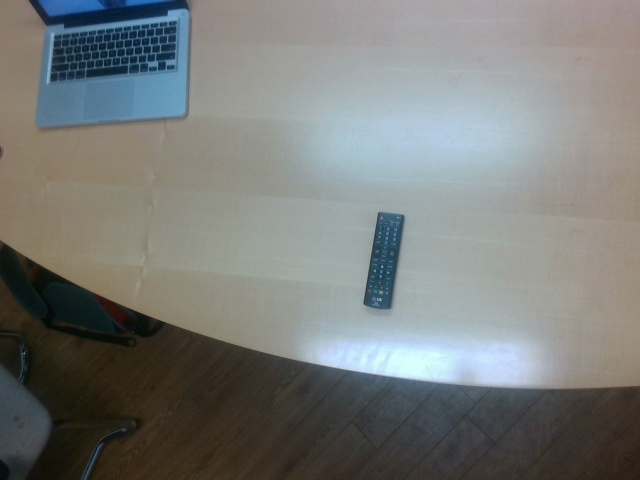remote: (363, 210, 406, 311)
